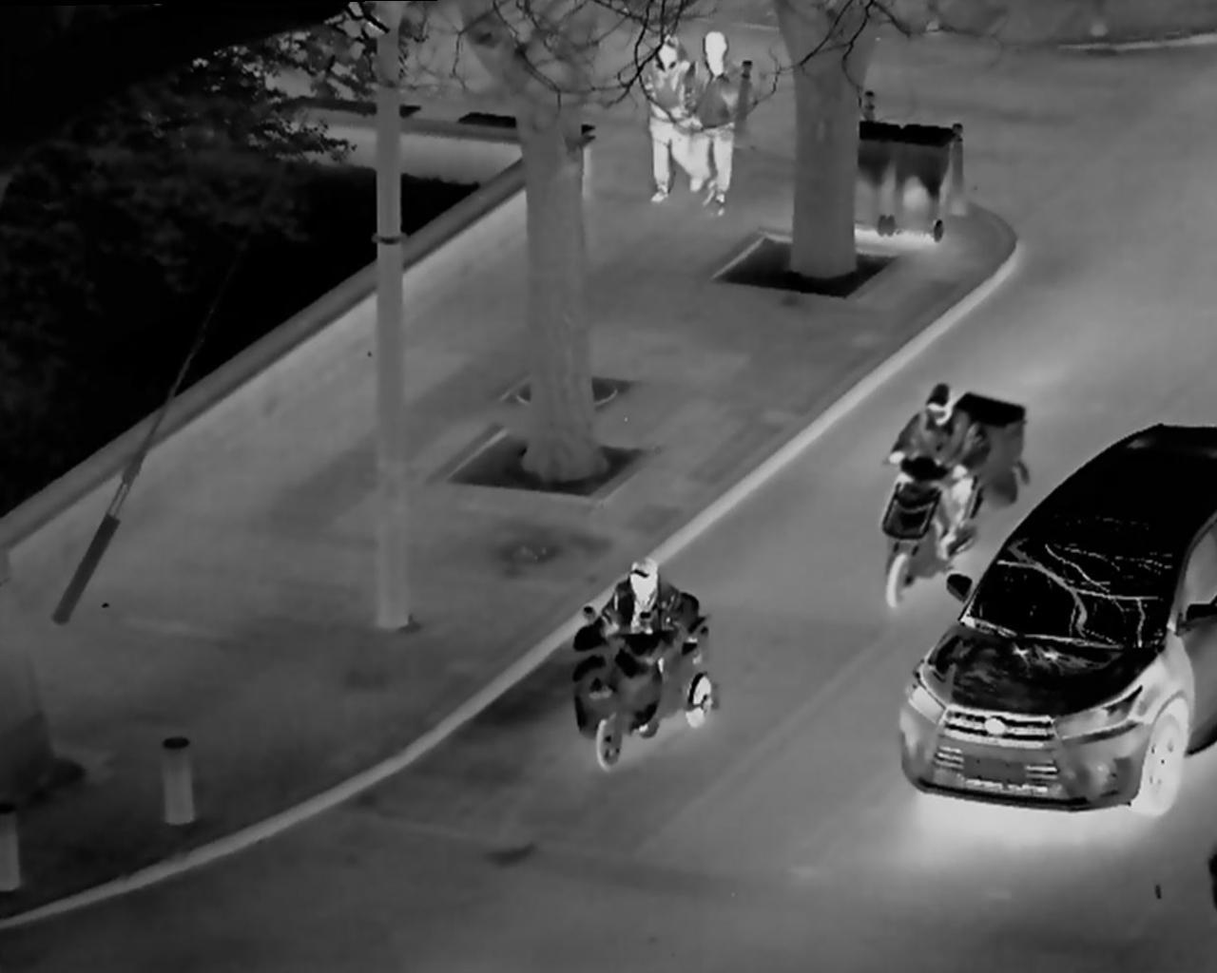person: (876, 359, 984, 600), (589, 549, 703, 742), (631, 26, 707, 204), (686, 18, 749, 213)
